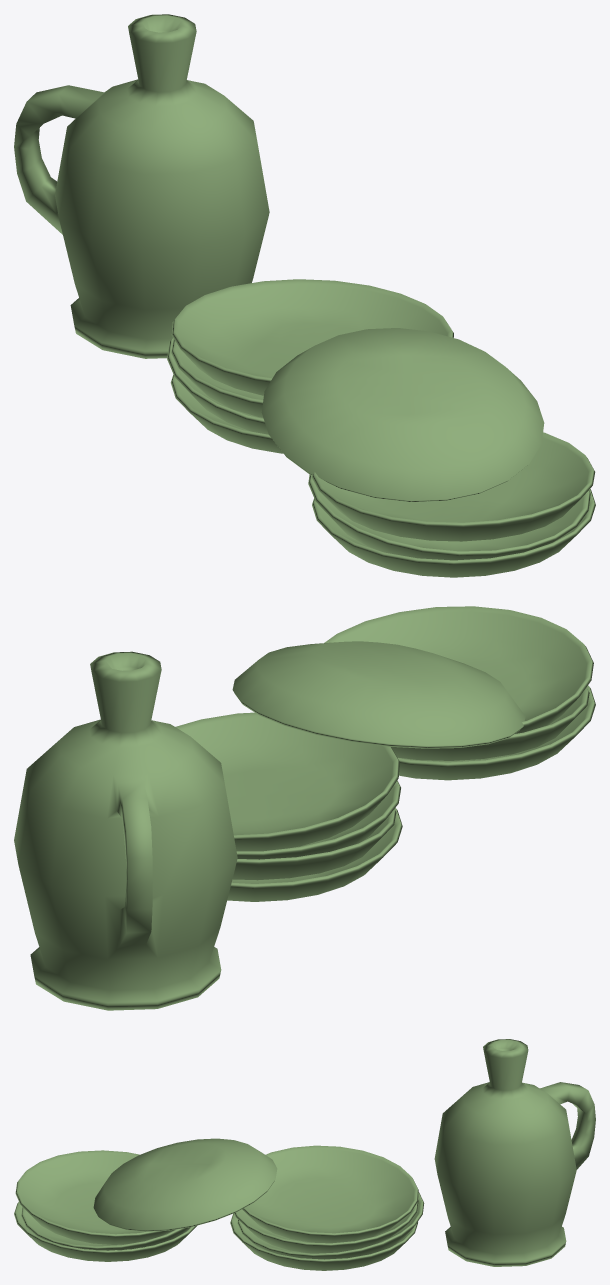
Rendered from Jar_Break_09_Lod0.fbx.
3 renders of one model, top to bottom at view 1: azimuth 30°, elevation 25°; view 2: azimuth 150°, elevation 25°; view 3: azimuth 270°, elevation 25°, orthographic. The views are drawn at different scales.
Visible parts, largest first — view 1: Jar_Break_09_Lod0; view 2: Jar_Break_09_Lod0; view 3: Jar_Break_09_Lod0.
Part boxes in pixels (bbox=[...]): Jar_Break_09_Lod0: bbox=[14, 14, 595, 577]; Jar_Break_09_Lod0: bbox=[14, 606, 595, 1010]; Jar_Break_09_Lod0: bbox=[14, 1039, 595, 1270].
Size of the model in its own units: 26.05 by 27.65 by 73.9.
